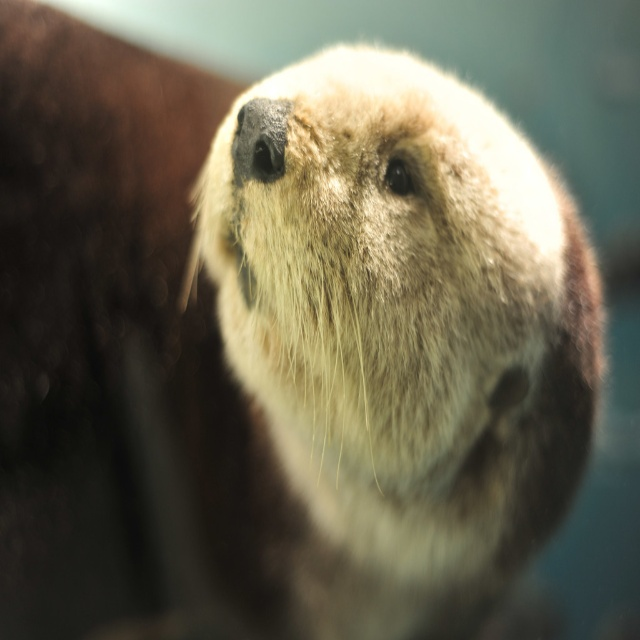Otter: (0, 0, 611, 640)
